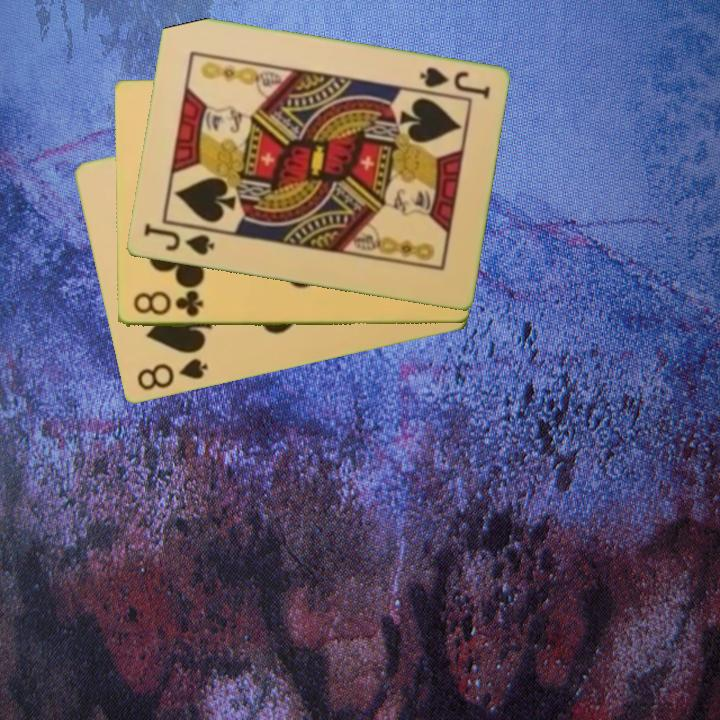8c: (129, 288, 205, 321)
8s: (133, 355, 211, 394)
Js: (139, 220, 217, 259), (415, 64, 493, 102)
